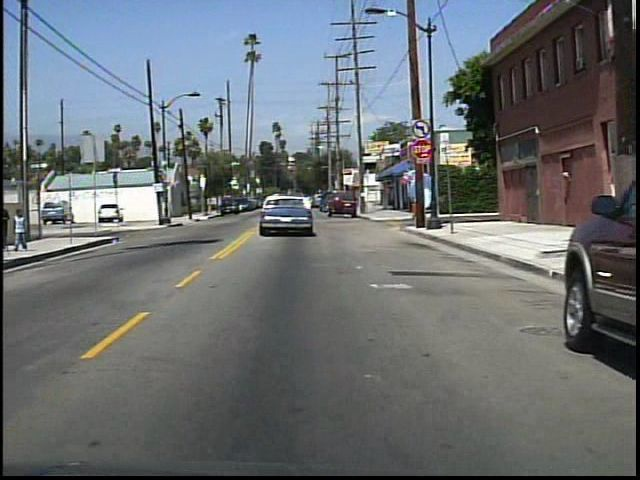person: (13, 205, 35, 254), (0, 200, 17, 253)
